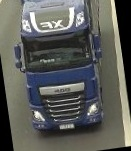truck: (8, 0, 113, 146)
